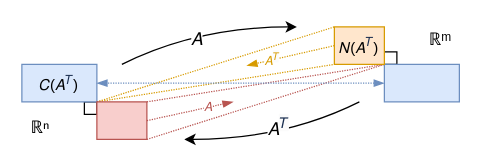
Image size: 481x165. Some labels were removed from this diagram. The box of each missing label's shape, as (x1, y1, x2, y2) in pixels:
𝐶(𝐴): (383, 63, 459, 102)
𝑁(𝐴): (96, 101, 147, 139)
